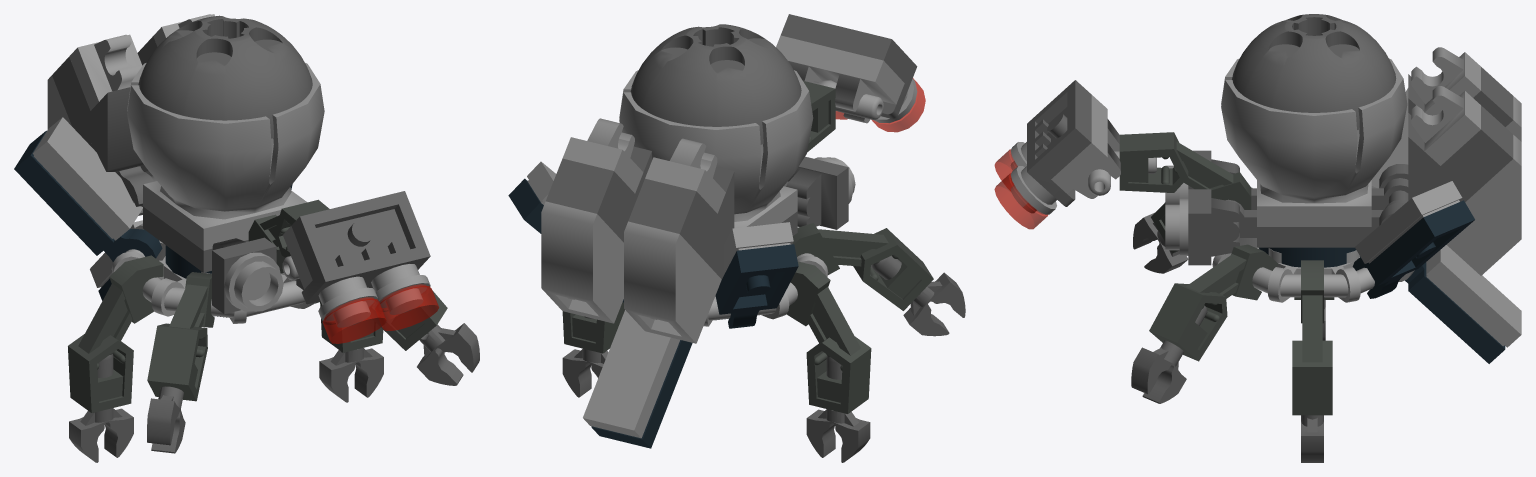
3 views of the same model, side by side, from view 1: azimuth 30°, elevation 25°; view 2: azimuth 150°, elevation 25°; view 3: azimuth 270°, elevation 25° (orthographic). The views are drawn at different scales.
Bounding box in the file's own units: 126 × 184 × 144.
